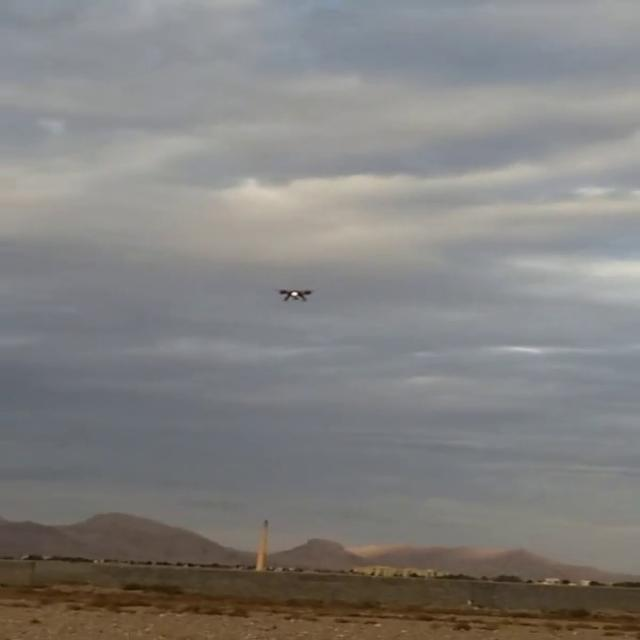drone: (275, 283, 317, 304)
